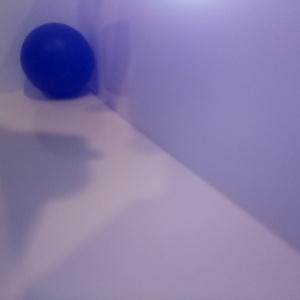dead_ball: (20, 23, 95, 98)
